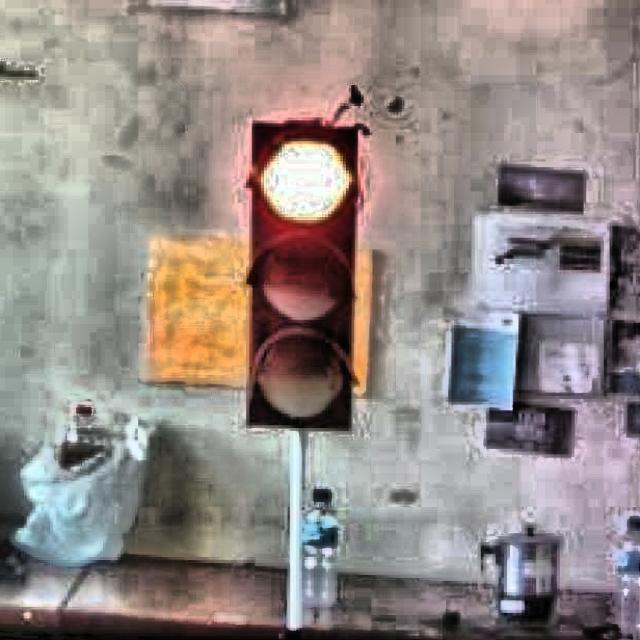red: (246, 116, 354, 436)
